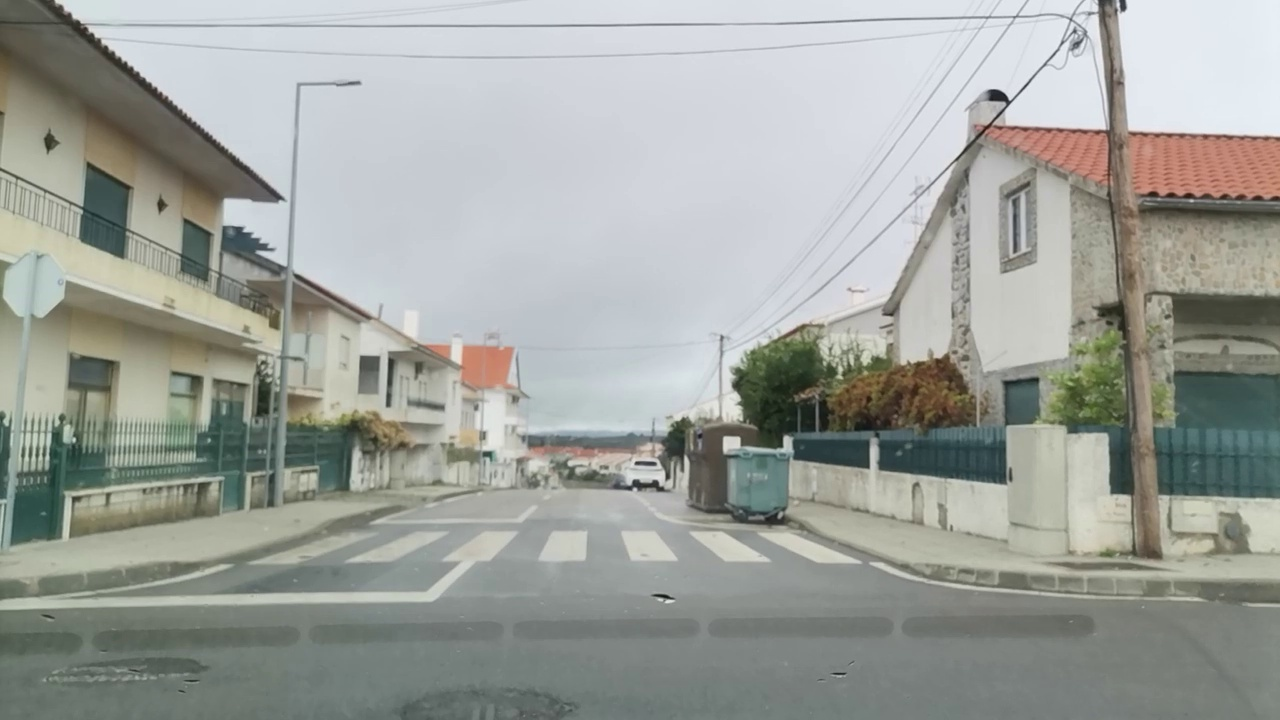Stairs: (255, 527, 863, 567)
